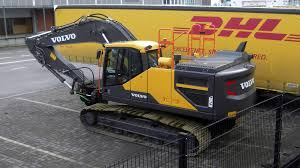excavator: (22, 19, 258, 155)
